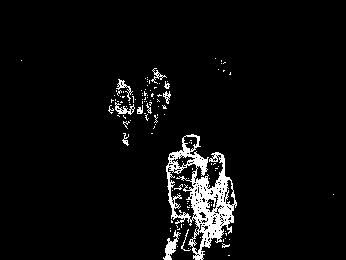person: (160, 131, 205, 260), (189, 151, 241, 260), (142, 66, 174, 133), (106, 77, 136, 148)
